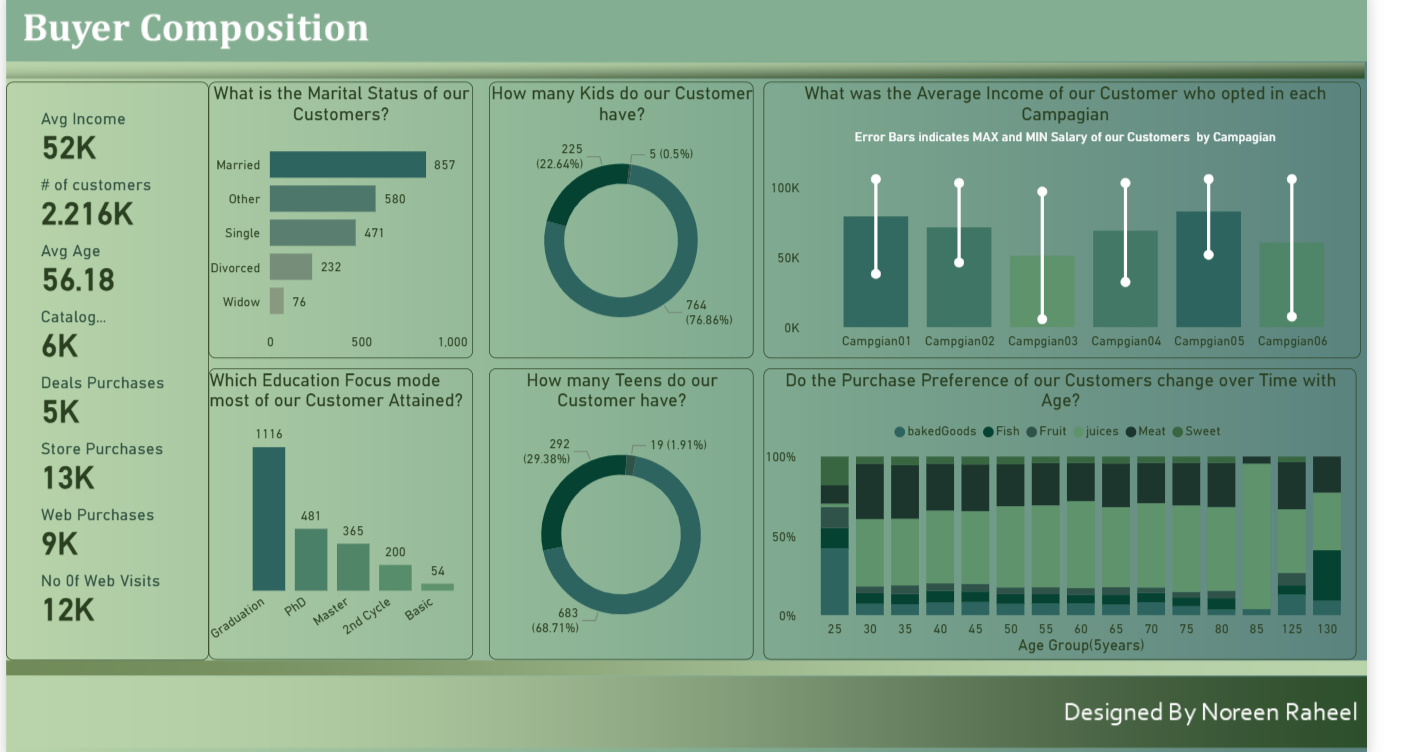

This screenshot's page, from the dashboard's own definition file:
{"tool":"powerbi","page":{"name":"Buyer Composition","canvas":[1280,720],"ordinal":1},"visuals":[{"type":"columnChart","title":"Which Education Focus mode most of our Customer Attained? ","fields":{"Category":["Research Data.Education"],"Y":["CountNonNull(Research Data.ID)"]},"box":[190.6,352.8,248.9,274.1],"z":0},{"type":"clusteredBarChart","title":"What is the Marital Status of our Customers?","fields":{"Category":["Research Data.Marital_Status"],"Y":["CountNonNull(Research Data.ID)"]},"box":[190.7,82.8,248.5,260],"z":1000},{"type":"donutChart","title":"How many Kids do our Customer have?","fields":{"Category":["Research Data.Kidhome"],"Y":["Sum(Campgians.Value)"]},"box":[453.6,83.5,248.9,259.9],"z":2000},{"type":"donutChart","title":"How many Teens do our Customer have?","fields":{"Category":["Research Data.Teenhome"],"Y":["Sum(Campgians.Value)"]},"box":[453.6,352.8,248.9,274.1],"z":3000},{"type":"columnChart","title":" What was the Average Income of our Customer who opted in each Campagian","fields":{"Category":["Campgians.Campagian"],"Y":["Avg(Research Data. Income )"]},"box":[712.7,82.8,561.1,260],"z":4000},{"type":"hundredPercentStackedColumnChart","title":" Do the Purchase Preference of our Customers change over Time with Age?","fields":{"Category":["Research Data.Age Group"],"Series":["Total Sales.Product"],"Y":["Sum(Total Sales.Total Sale)"]},"box":[711.9,352.8,557.6,274.1],"z":5000},{"type":"cardVisual","fields":{"Data":["Avg(Research Data. Income )","CountNonNull(Research Data.ID)","Avg(Research Data.Age)","Sum(Research Data.NumCatalogPurchases)","Sum(Research Data.NumDealsPurchases)","Sum(Research Data.NumStorePurchases)","Sum(Research Data.NumWebPurchases)","Sum(Research Data.NumWebVisitsMonth)"]},"box":[0,82.8,190.7,543.9],"z":6000}]}

Visuals, with their boxes on the page's 1280x720 design canvas (x1, y1, x2, y2). These are canvas units, not pixel positions in the 1404x752 screenshot, which may show the page scaled, cropped or inside an application window:
"Which Education Focus mode most of our Customer Attained? " columnChart: rect(191, 353, 440, 627)
"What is the Marital Status of our Customers?" clusteredBarChart: rect(191, 83, 439, 343)
"How many Kids do our Customer have?" donutChart: rect(454, 84, 702, 343)
"How many Teens do our Customer have?" donutChart: rect(454, 353, 702, 627)
" What was the Average Income of our Customer who opted in each Campagian" columnChart: rect(713, 83, 1274, 343)
" Do the Purchase Preference of our Customers change over Time with Age?" hundredPercentStackedColumnChart: rect(712, 353, 1270, 627)
cardVisual - Avg(Research Data. Income ) x CountNonNull(Research Data.ID): rect(0, 83, 191, 627)
